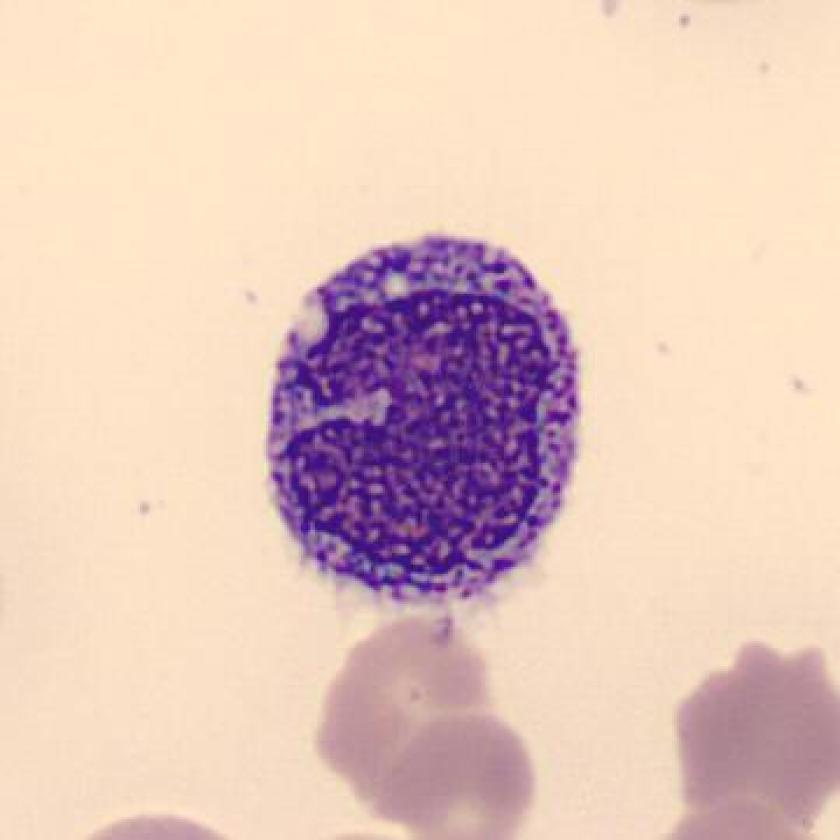monocyte: (248, 212, 603, 633)
